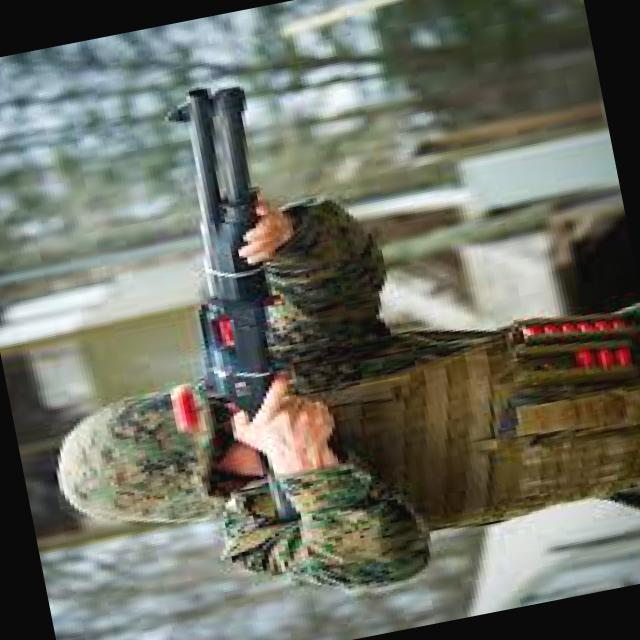long weapon: (148, 64, 335, 417)
